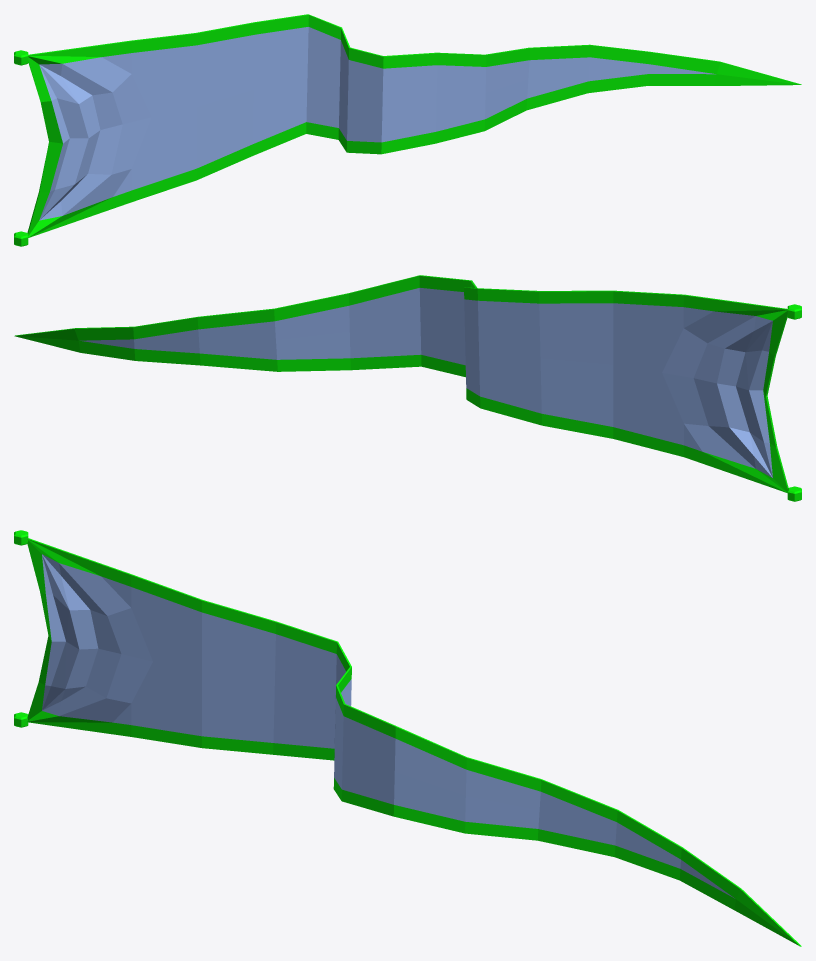
File: SM_Flag_Triangle_E_Fantasy.fbx
3 renders of one model, top to bottom at view 1: azimuth 30°, elevation 25°; view 2: azimuth 150°, elevation 25°; view 3: azimuth 330°, elevation 25°, orthographic.
Visible parts, largest first — view 1: flag-triangle-e-fantasy; view 2: flag-triangle-e-fantasy; view 3: flag-triangle-e-fantasy.
Boxes of the visible parts, x1,y1,x2,y2 form: flag-triangle-e-fantasy: (14, 14, 801, 246); flag-triangle-e-fantasy: (14, 275, 801, 501); flag-triangle-e-fantasy: (14, 530, 801, 946).
Size of the model in its own units: 4.89 by 1.31 by 0.3947.
